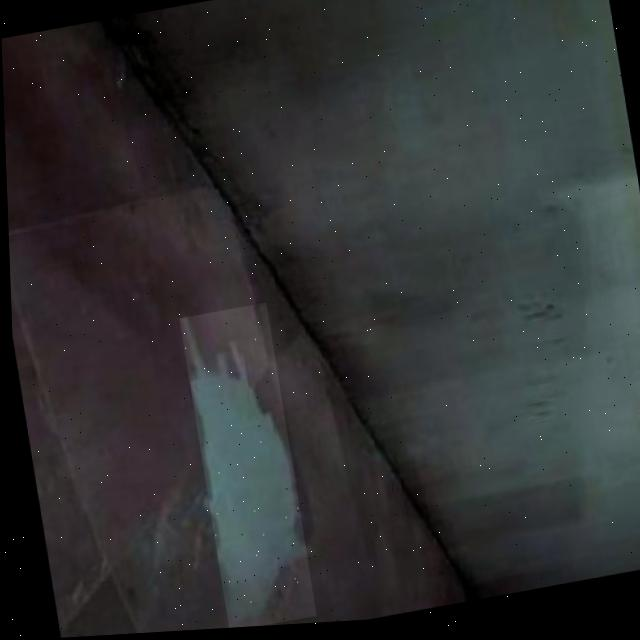spillage: (181, 318, 295, 630)
